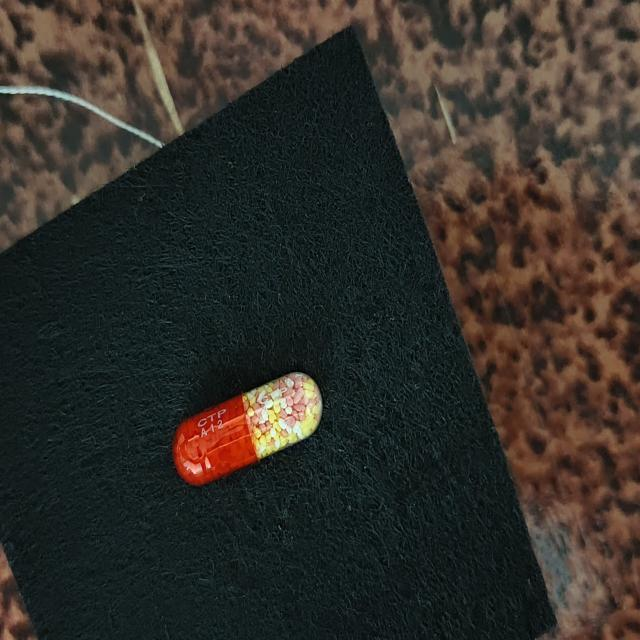Intact Capsule: (173, 372, 323, 486)
